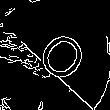O_SW: (23, 21, 87, 89)
